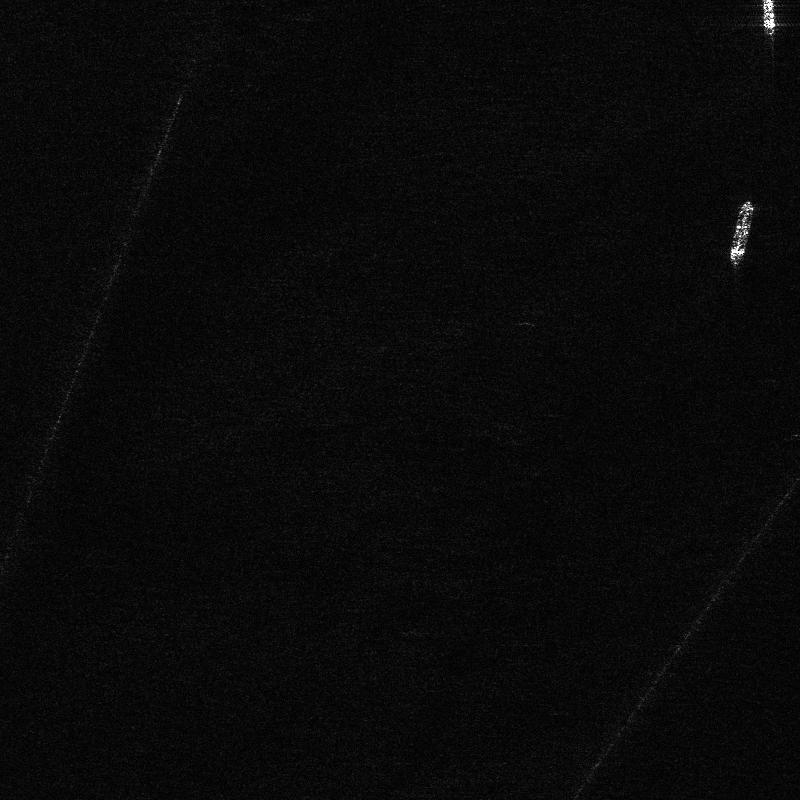ship: (729, 200, 753, 265), (762, 0, 775, 34)
